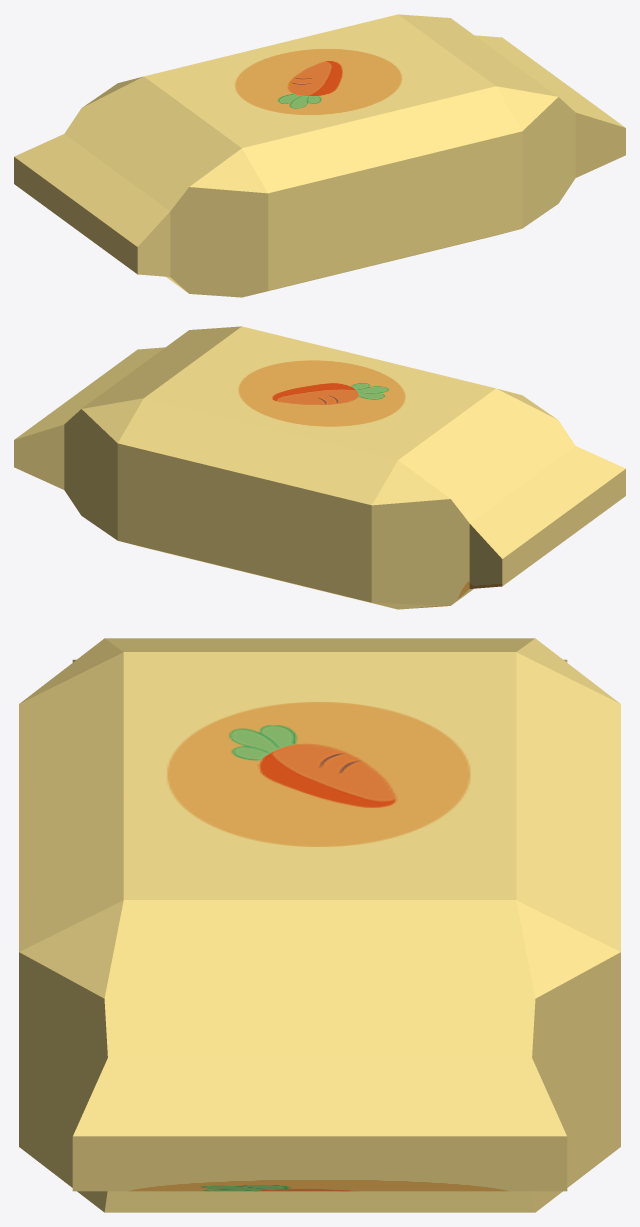
The model's file is SeedsBag.fbx.
3 renders of one model, top to bottom at view 1: azimuth 30°, elevation 25°; view 2: azimuth 150°, elevation 25°; view 3: azimuth 270°, elevation 25°, orthographic. The views are drawn at different scales.
Visible parts, largest first — view 1: Cube; view 2: Cube; view 3: Cube.
Part boxes in pixels (<box>): Cube: <box>14,14,625,297</box>; Cube: <box>14,326,625,609</box>; Cube: <box>19,638,620,1212</box>.
Bounding box in the file's own units: 375 × 110 × 200.
